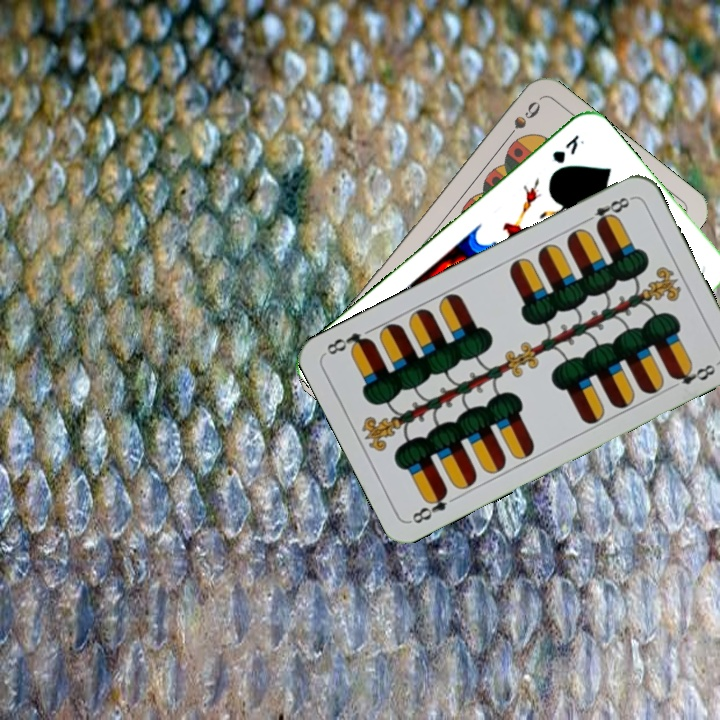E8: (579, 193, 635, 230), (407, 485, 451, 526)
GK: (548, 130, 587, 167)
S9: (499, 97, 543, 146)
